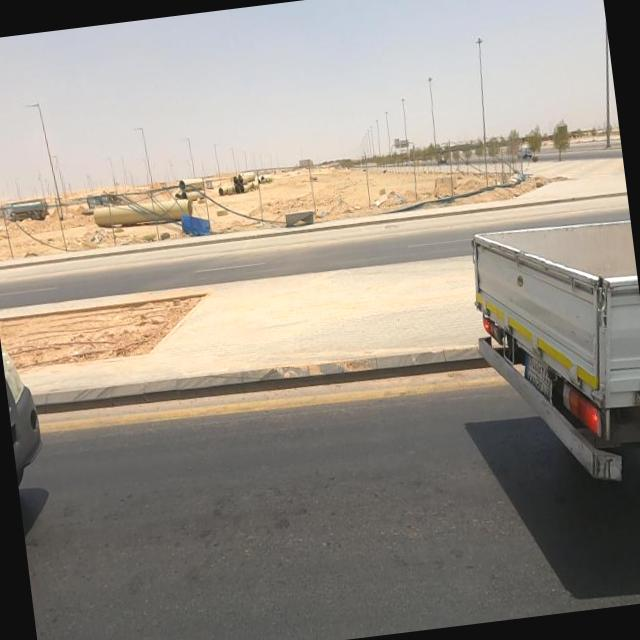debris: (160, 184, 242, 260), (467, 144, 552, 212), (355, 166, 429, 230)
